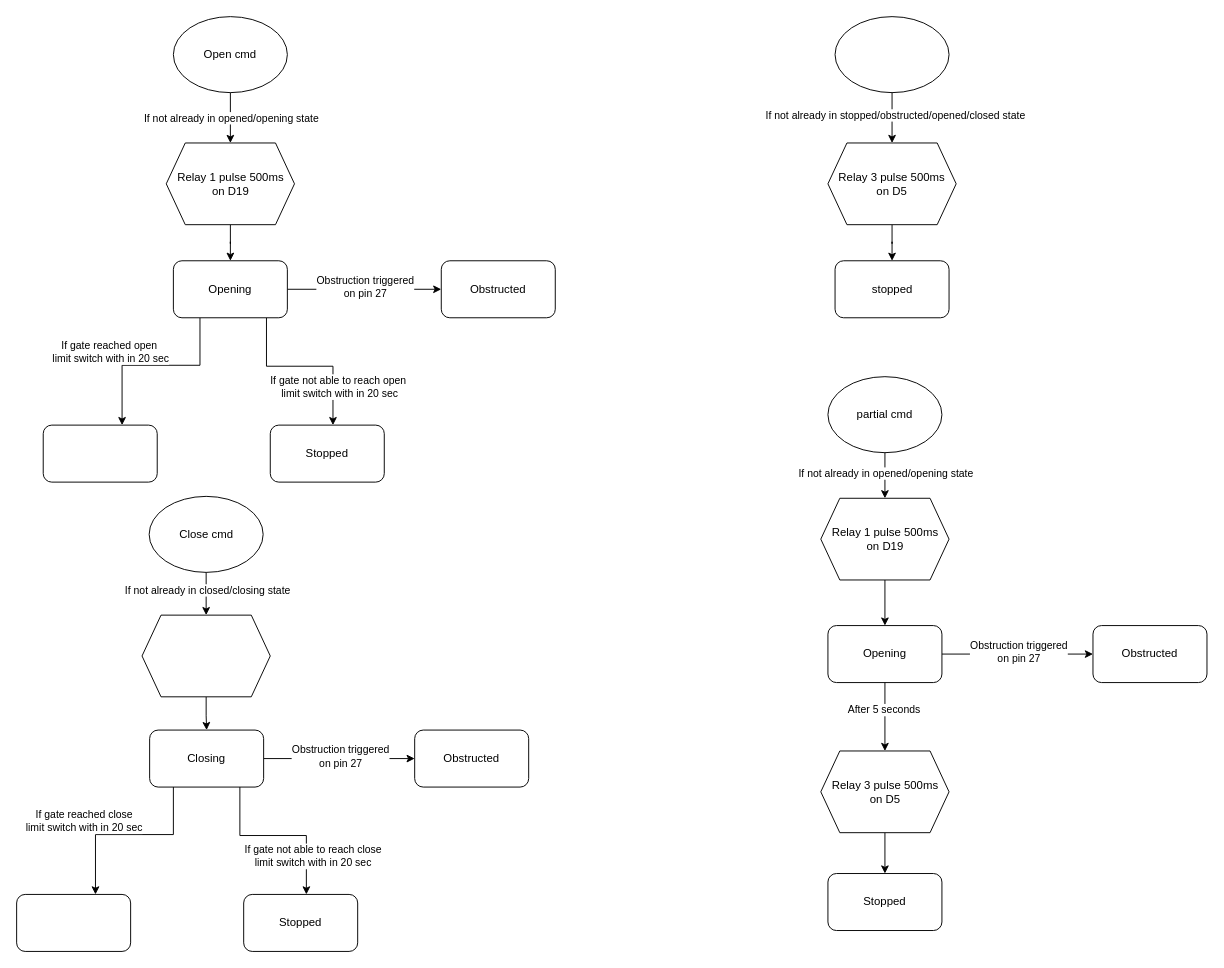
This 1224x968 diagram has some shape labels left out. Each missing label, with the centre of its shape:
"Closed" goes at point 73,922.
"Opened" goes at point 99,453.
"Relay 2 pulse 500ms on D18" goes at point 205,655.
"Stop cmd" goes at point 891,54.
